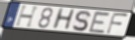8: (38, 7, 54, 29)
E: (88, 10, 112, 34)
F: (105, 12, 129, 36)
H: (14, 5, 40, 29), (50, 8, 77, 31)
S: (72, 10, 92, 32)
